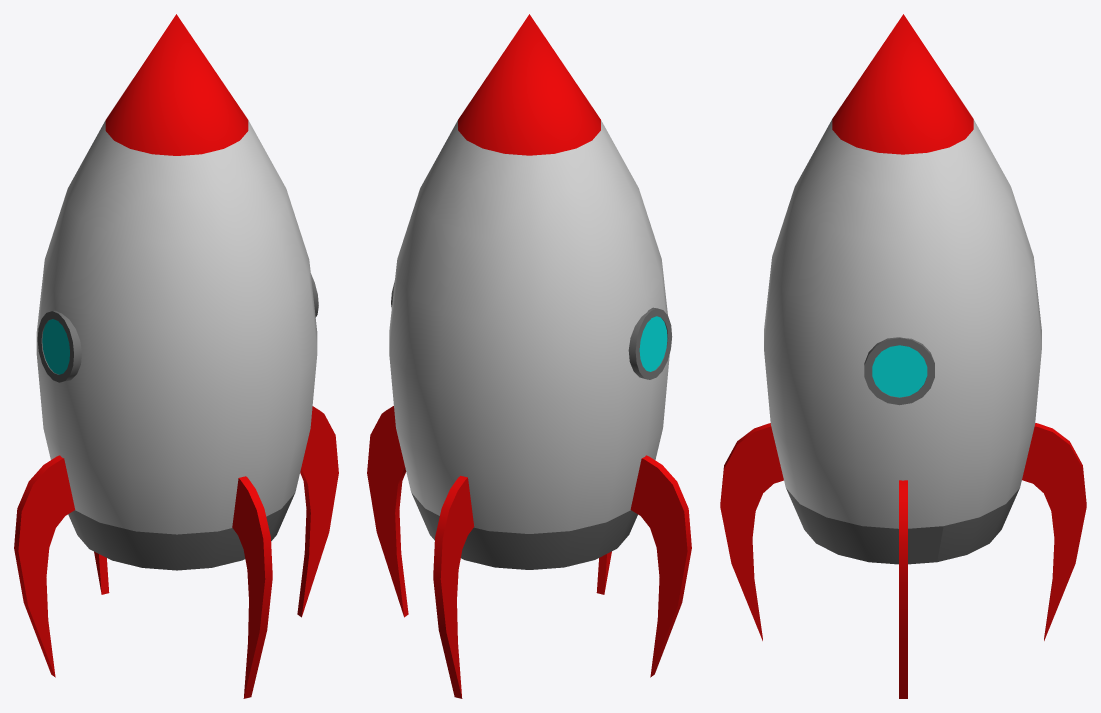
Rendered from RocketShip.fbx.
The picture shows the model from 3 angles, left to right: view 1: azimuth 30°, elevation 25°; view 2: azimuth 150°, elevation 25°; view 3: azimuth 270°, elevation 25°; orthographic projection.
Parts seen in each view (by area): view 1: RocketShip; view 2: RocketShip; view 3: RocketShip.
Part boxes in pixels (box(x1,y1,x2,y2)): RocketShip: box(14, 14, 338, 698); RocketShip: box(367, 14, 691, 698); RocketShip: box(720, 14, 1086, 698).
Bounding box in the file's own units: 5.51 × 10.38 × 5.51.
